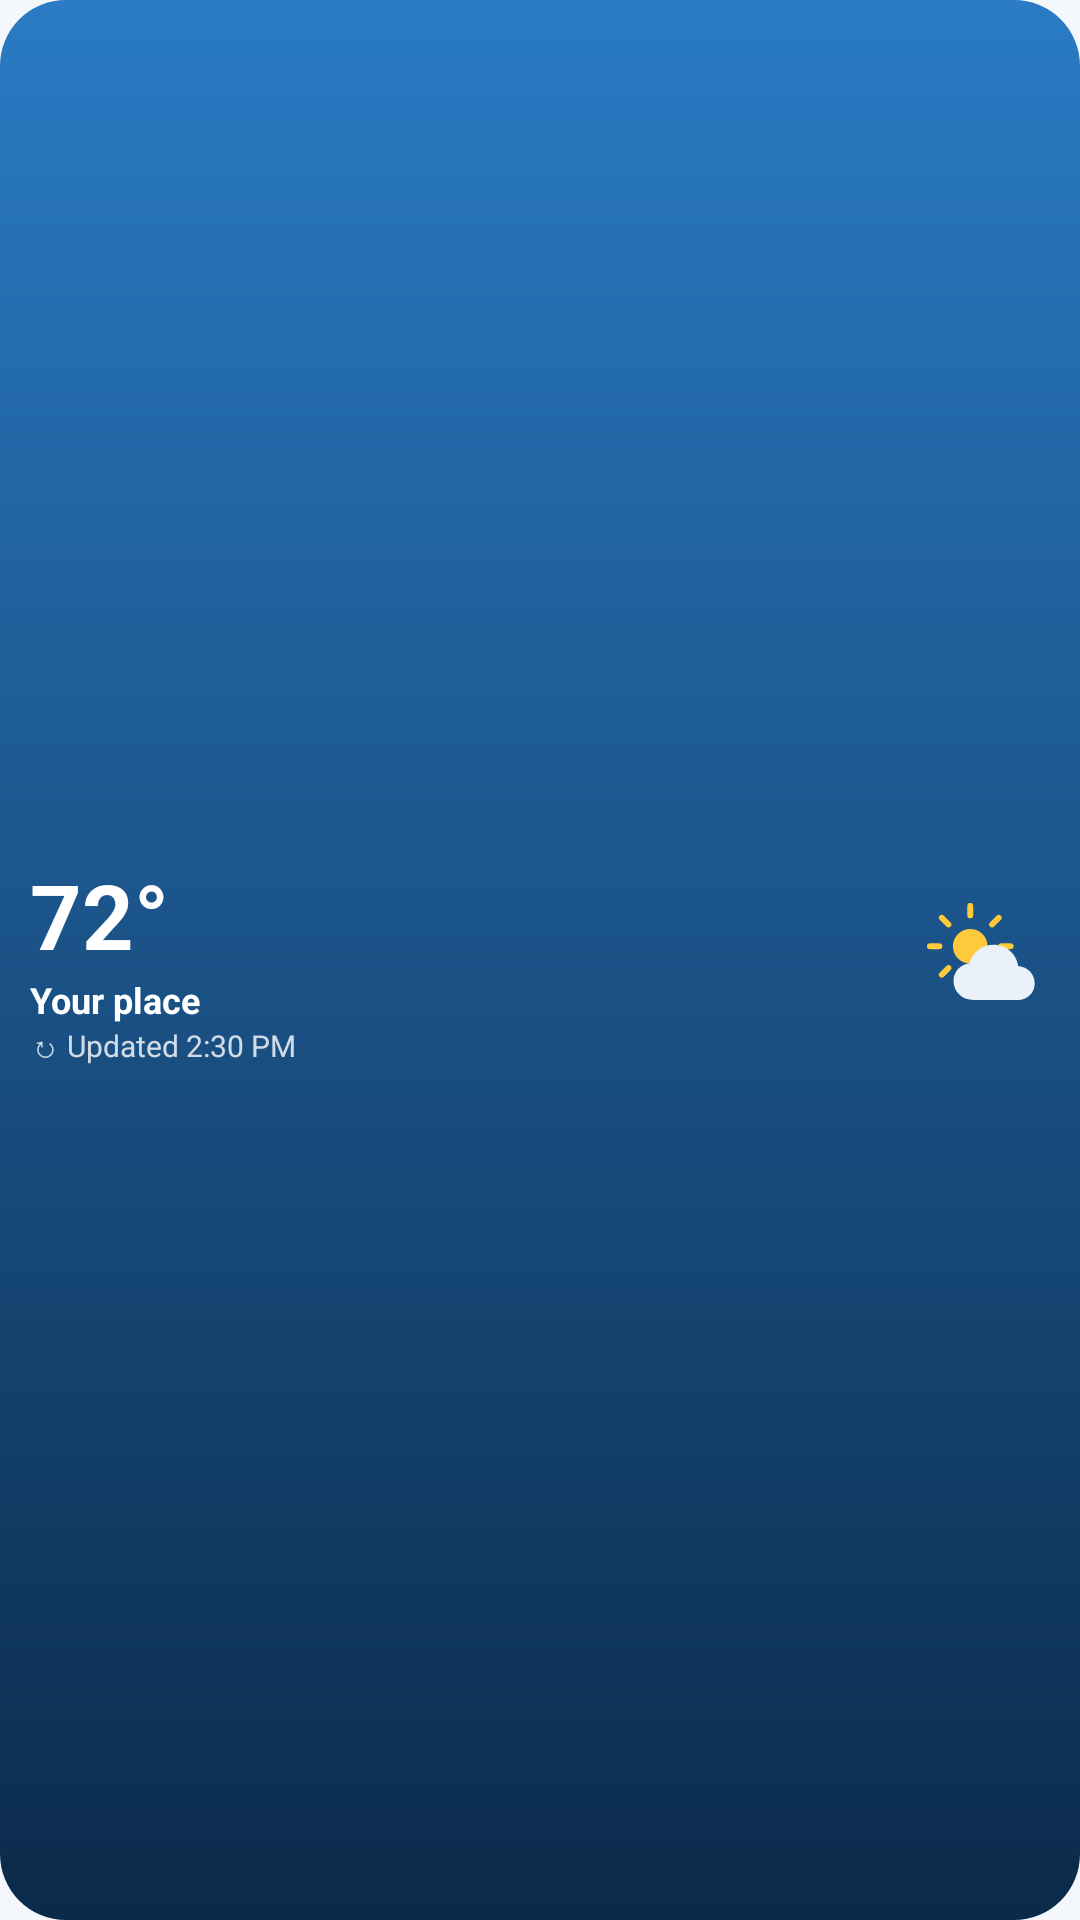

Icon bounding boxes for this 1080x1920 phone screenshot, format box=[x1, y1, x2, y2]:
partly day: box=[927, 903, 1035, 1000]
